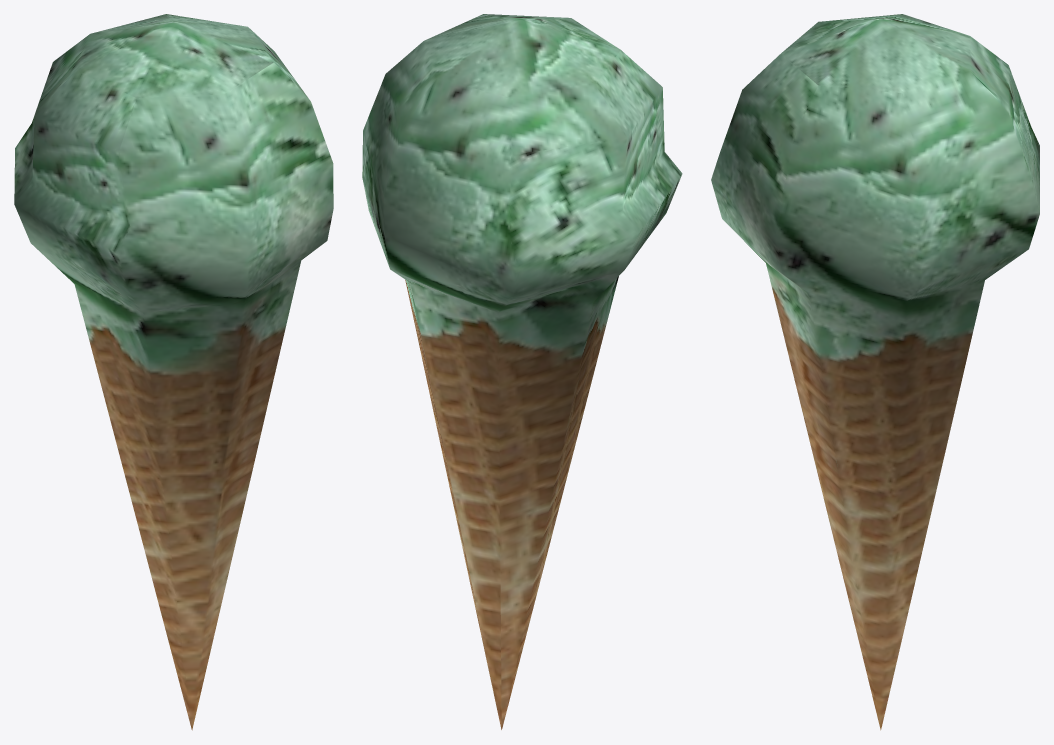
File: Ice_cream_02.dae
The picture shows the model from 3 angles, left to right: view 1: azimuth 30°, elevation 25°; view 2: azimuth 150°, elevation 25°; view 3: azimuth 270°, elevation 25°; orthographic projection.
Parts seen in each view (by area): view 1: Ice_cream_02; view 2: Ice_cream_02; view 3: Ice_cream_02.
Boxes of the visible parts, box(x1,y1,x2,y2) form: Ice_cream_02: box(14, 14, 333, 730); Ice_cream_02: box(362, 14, 682, 729); Ice_cream_02: box(711, 14, 1039, 730).
Bounding box in the file's own units: 0.1008 × 0.1059 × 0.2496.
1 material, 1 textured.
